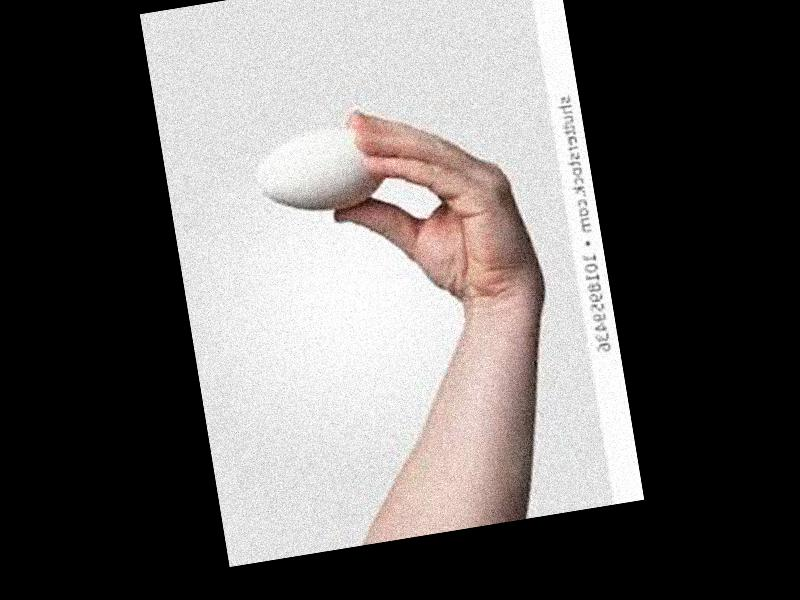Eggs: (247, 117, 389, 221)
